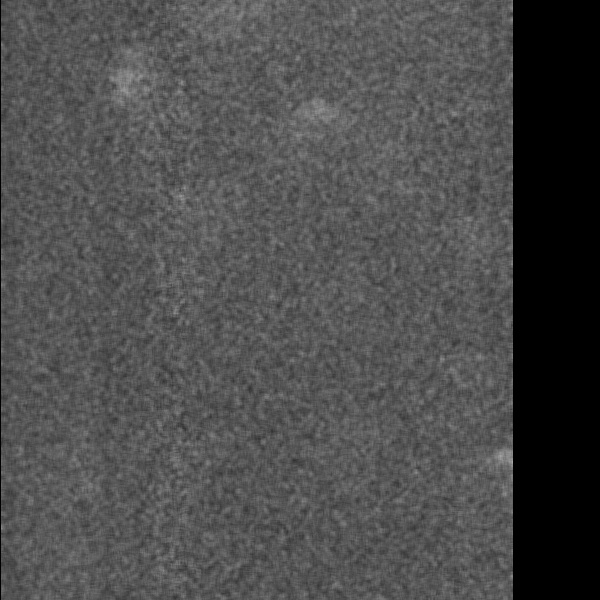spark: (100, 61, 137, 108), (307, 96, 333, 144), (487, 443, 514, 484)
